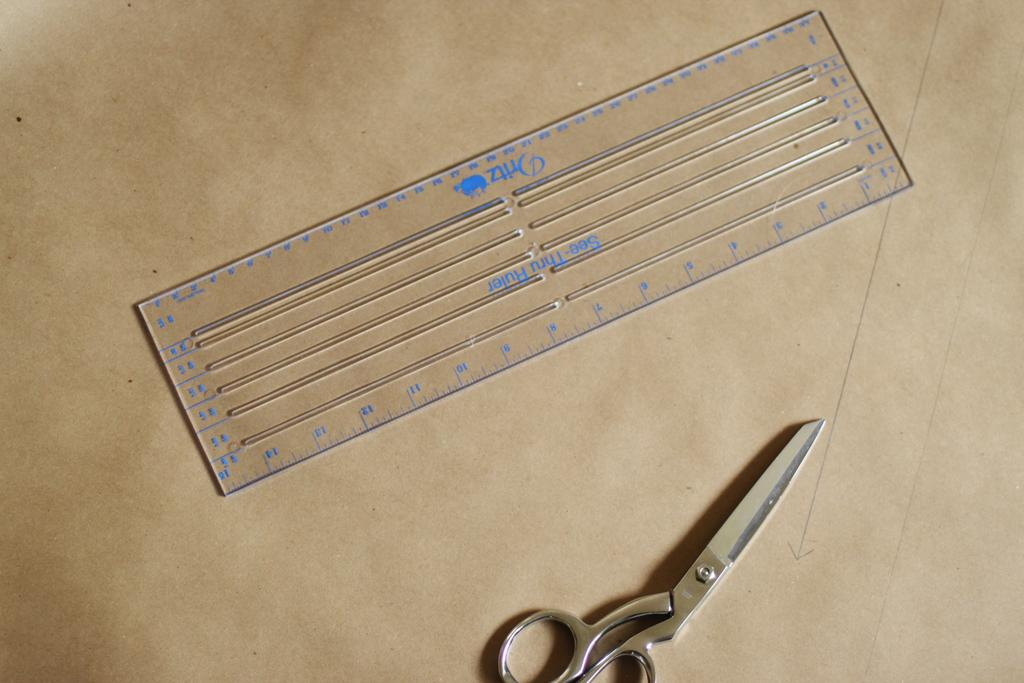Book: (133, 8, 914, 497)
